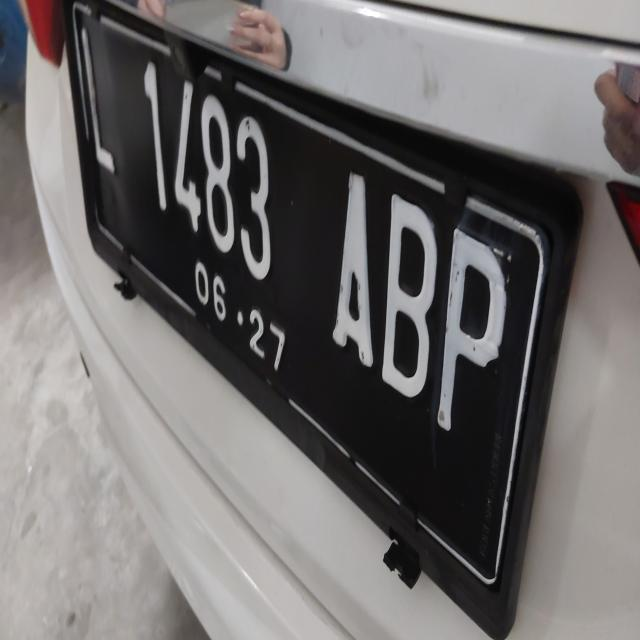1: (134, 62, 177, 218)
3: (232, 95, 286, 298)
4: (167, 61, 214, 269)
8: (195, 77, 245, 266)
A: (328, 151, 382, 378)
B: (369, 166, 441, 425)
L: (71, 16, 117, 200)
P: (422, 192, 517, 464)
